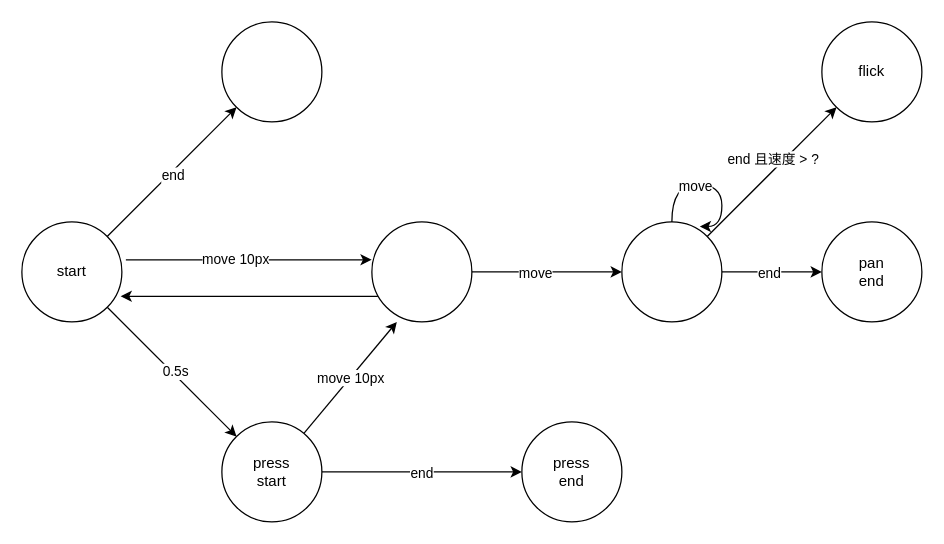
This 944x544 diagram has some shape labels left out. Each missing label, with the centre of its shape:
pan: the point at 671,271
pan start: the point at 421,271
tap: the point at 271,71
